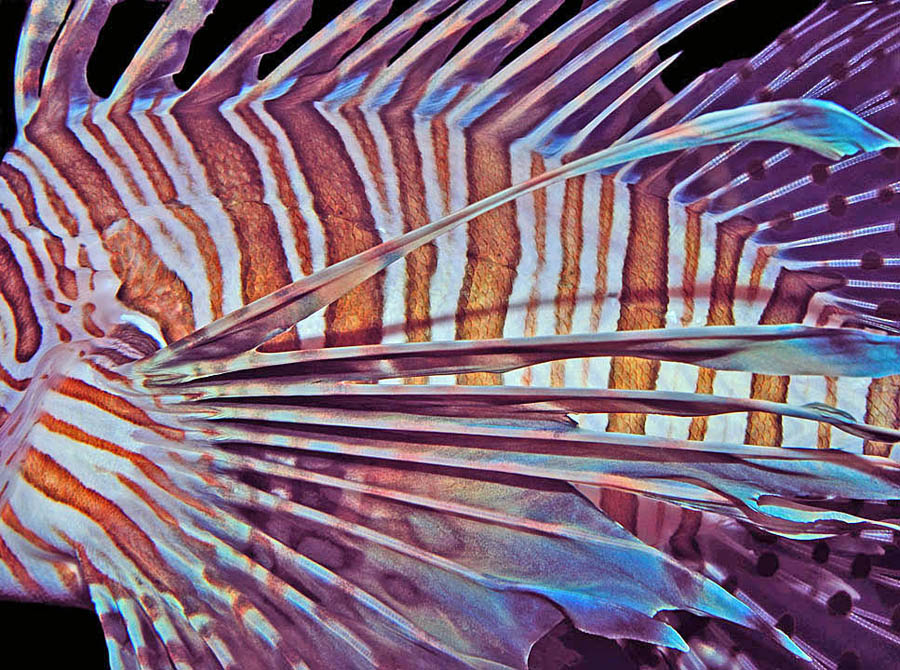Pterois_volitans: (1, 6, 874, 670)
